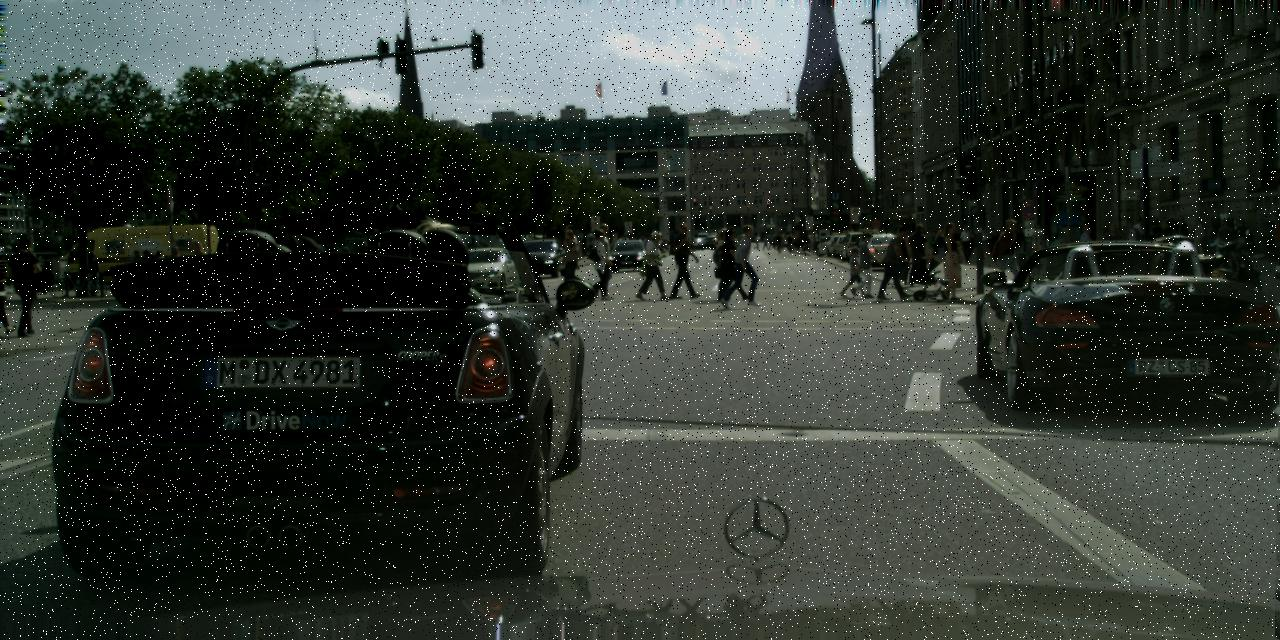ped: (6, 234, 47, 334), (726, 225, 760, 306), (934, 222, 965, 300), (669, 222, 699, 298), (717, 226, 747, 300), (884, 227, 914, 300), (640, 230, 669, 301), (710, 228, 739, 298), (585, 228, 614, 298), (588, 222, 616, 292), (187, 238, 214, 308), (556, 224, 583, 292), (996, 219, 1023, 286), (556, 229, 583, 295), (850, 232, 876, 297), (890, 226, 913, 284), (907, 222, 930, 280), (1076, 225, 1096, 278), (844, 247, 864, 297), (164, 246, 184, 296), (1121, 220, 1140, 268), (1103, 224, 1122, 270), (1232, 218, 1250, 263), (138, 249, 156, 294), (127, 250, 145, 295), (150, 250, 168, 294), (80, 249, 98, 293), (1098, 227, 1114, 265), (1160, 220, 1176, 258), (1217, 218, 1232, 258), (1114, 227, 1130, 264), (1148, 220, 1163, 256), (1190, 217, 1204, 254), (1164, 218, 1179, 252), (1176, 215, 1190, 251), (1222, 211, 1236, 247), (1132, 218, 1146, 253), (1158, 221, 1172, 256), (933, 229, 946, 262), (960, 225, 973, 257), (1013, 226, 1025, 258), (792, 230, 809, 252), (924, 228, 936, 256), (979, 227, 990, 254), (951, 228, 962, 254), (926, 228, 936, 254), (986, 227, 996, 252), (918, 230, 928, 254), (990, 231, 999, 255), (966, 228, 975, 250), (767, 234, 777, 250), (658, 238, 668, 252), (812, 230, 819, 249), (807, 231, 814, 250), (638, 236, 650, 246), (620, 234, 637, 240), (775, 234, 781, 250), (786, 234, 792, 249), (753, 235, 759, 249), (762, 237, 768, 250), (780, 234, 784, 250), (688, 236, 693, 248), (909, 231, 914, 235), (910, 258, 911, 261)
